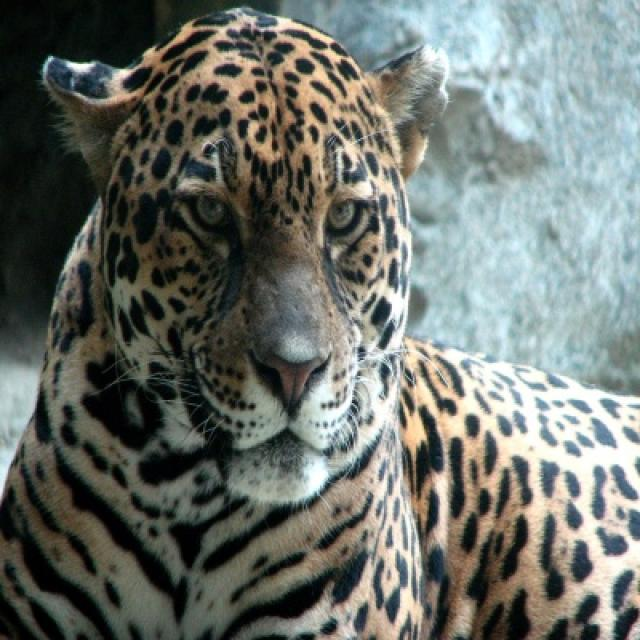Jaguar: (0, 10, 637, 638)
